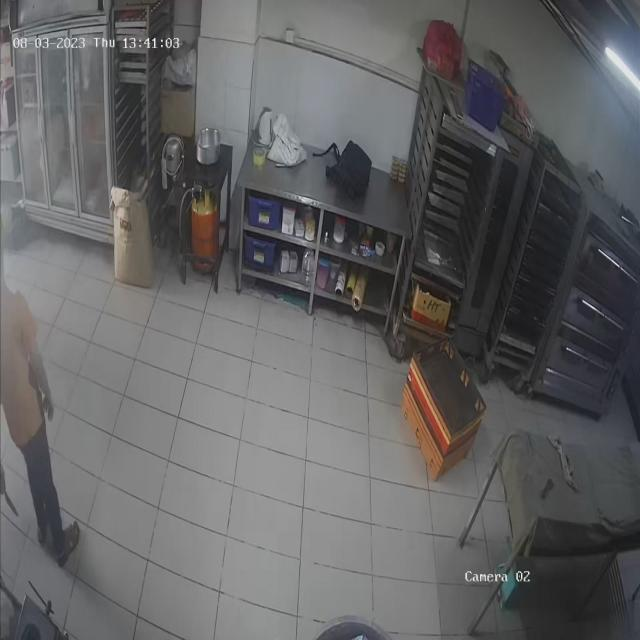Knife: (0, 486, 31, 519)
